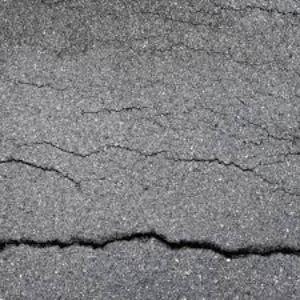crack: (0, 134, 300, 187), (0, 222, 300, 271), (141, 31, 272, 62), (223, 77, 300, 109), (81, 102, 186, 124), (39, 1, 122, 23), (212, 0, 300, 19), (10, 71, 73, 94)
